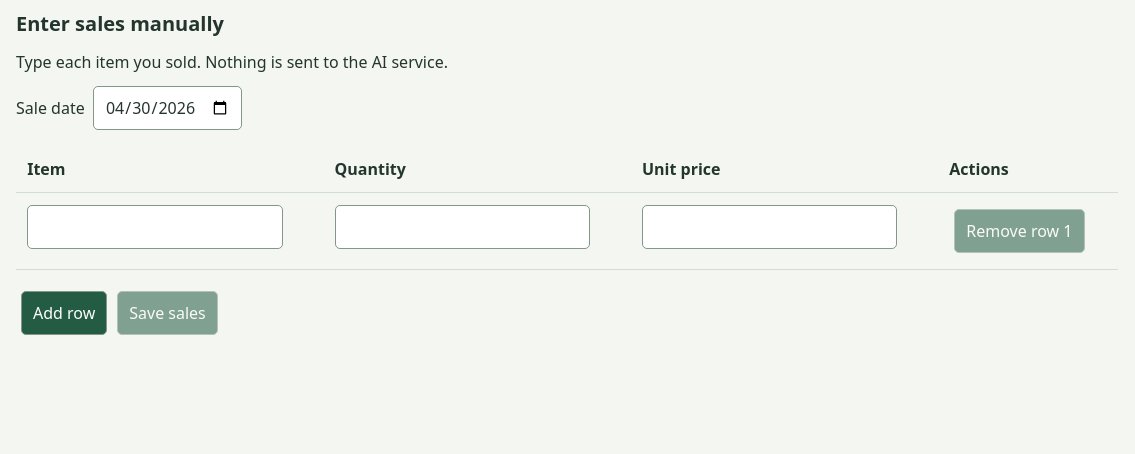
Standalone manual entry (FR-104) › retries with the same submission ID so a network error cannot duplicate sales
Type "Bread" into the 1st field named "Row 1 Item" at [155, 227], box x1=27 y1=205 x2=283 y2=249
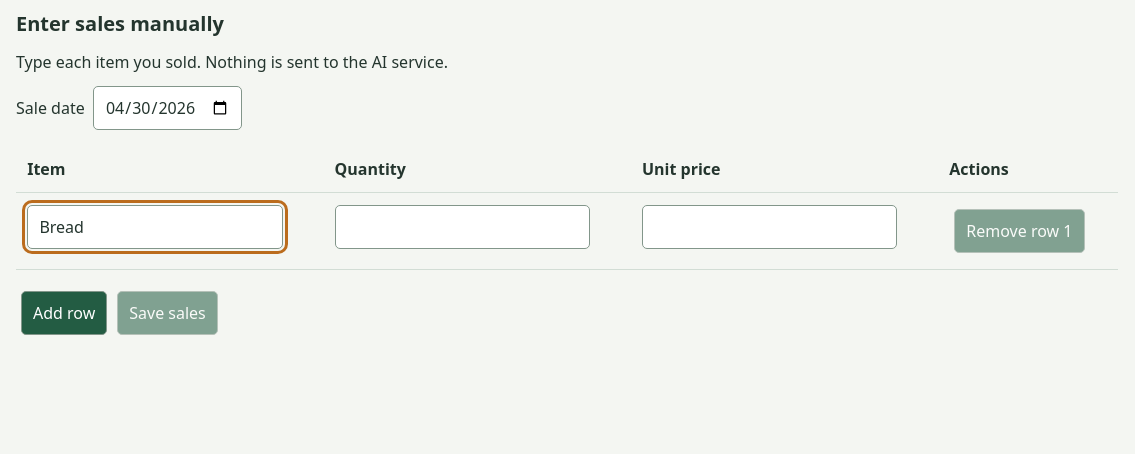
Type "3" into the 2nd field named "Row 1 Quantity" at [462, 227], box x1=335 y1=205 x2=590 y2=249
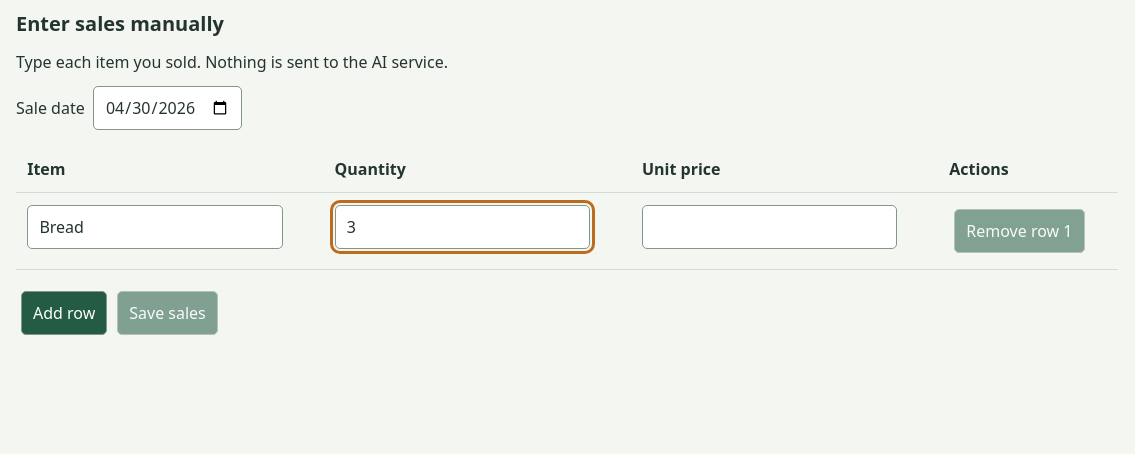
Type "1.50" into the 3rd field named "Row 1 Unit price" at [770, 227], box x1=642 y1=205 x2=897 y2=249
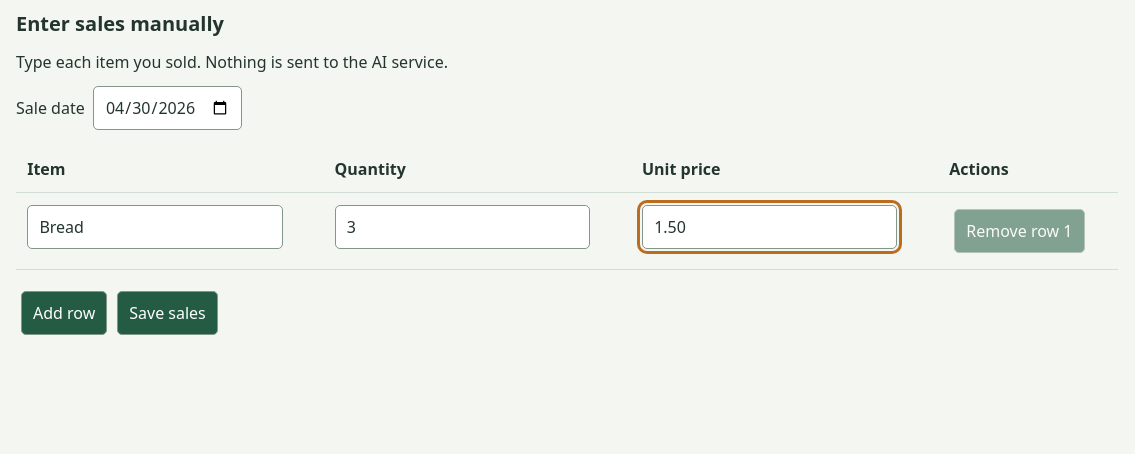
Click the button "Save sales" at [168, 313], box x1=117 y1=291 x2=218 y2=335
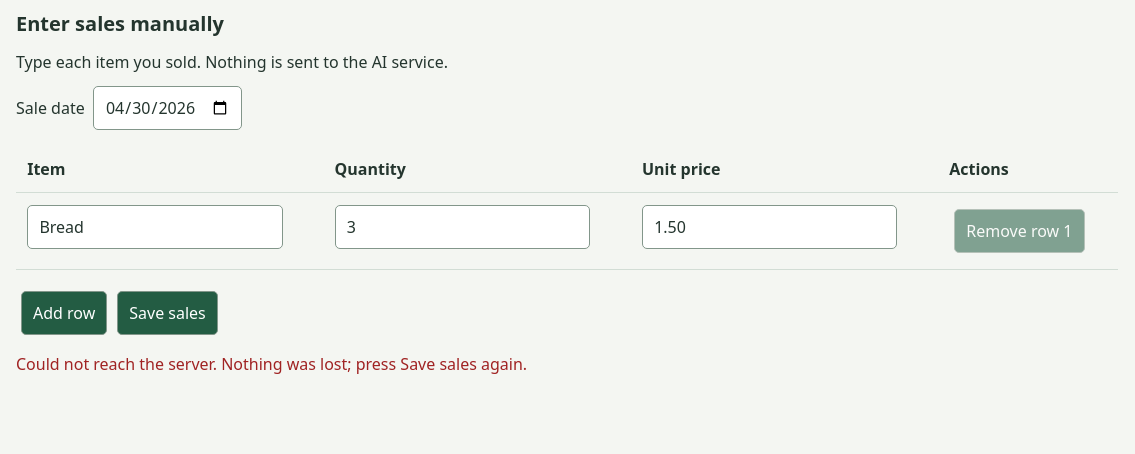
expect the message shows "Nothing was lost": met, box x1=217 y1=353 x2=527 y2=375
Click the button "Save sales" at [168, 313], box x1=117 y1=291 x2=218 y2=335
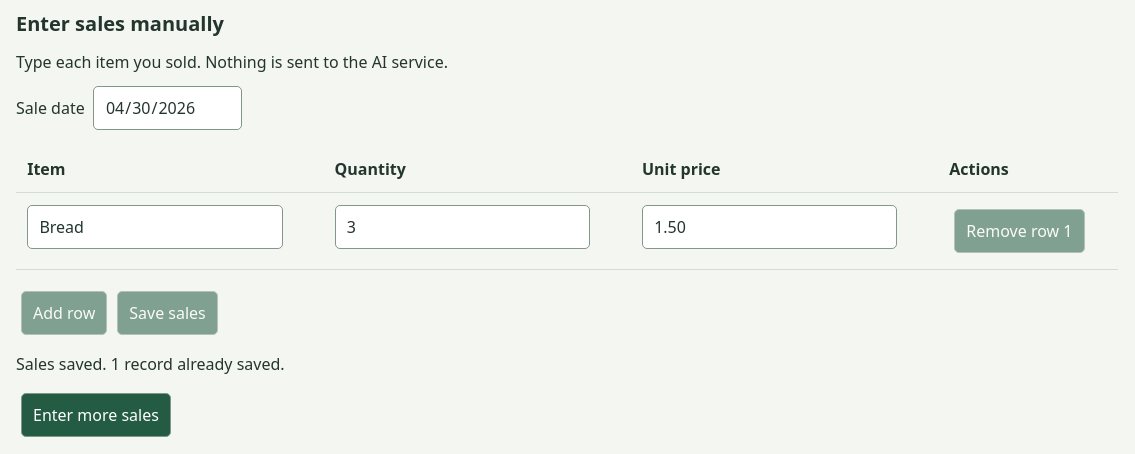
expect the text "Sales saved. 1 record already saved." is shown: met, box x1=16 y1=353 x2=285 y2=375
